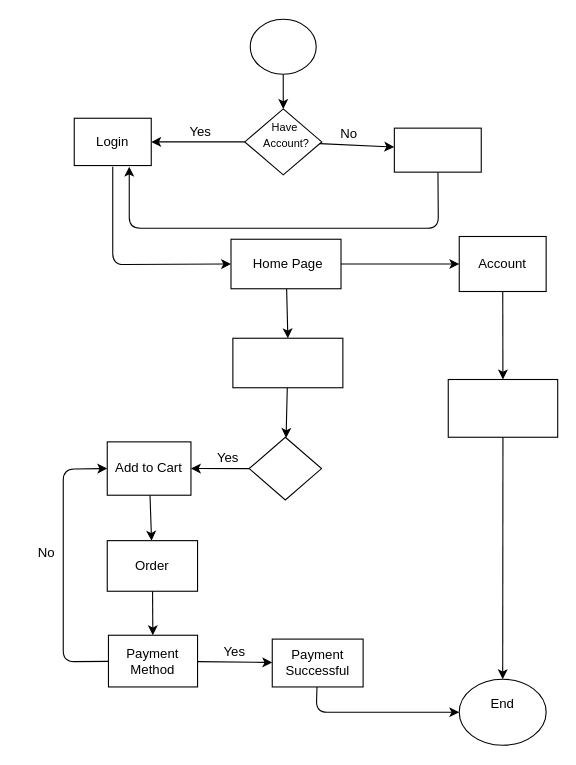
This 576x765 diagram has some shape labels left out. Here are the shapes that lost their labels. From the top down, the centre of each, then its label:
At point 282,46: "Start".
At point 437,149: "Signup".
At point 287,362: "View Product Details".
At point 502,407: "Delivery Track".
At point 285,468: "Select Items".
